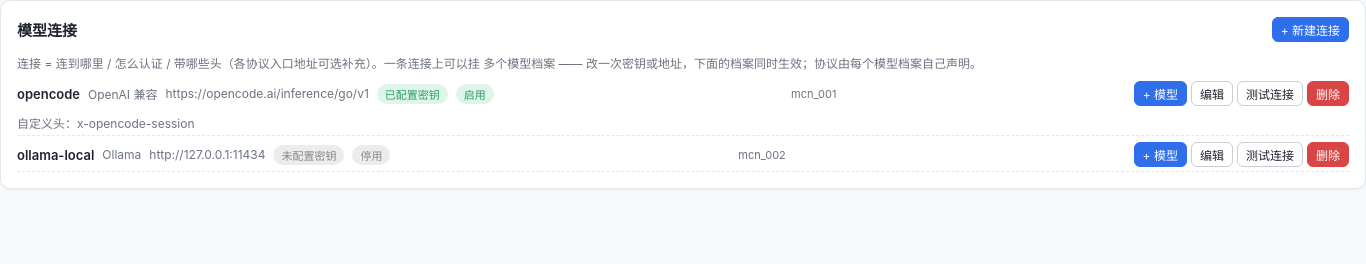
it: ConnectionsPanel · 模型连接 › 测试连接成功：信息通道（alert--info）+ 显示 ok / detail / probe
Click the button with test id "connection-test-mcn_001": [1270, 94] box [1237,81,1303,106]
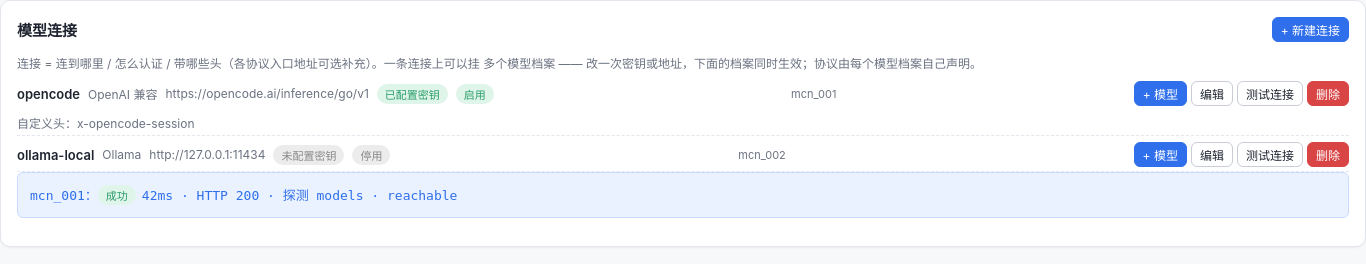
Check: the element with test id "connection-test-result" shows "成功", box [106,190,128,203]
Check: the element with test id "connection-test-result" shows "reachable", box [364,188,457,203]
Check: the element with test id "connection-test-result" shows "models", box [259,188,364,203]
